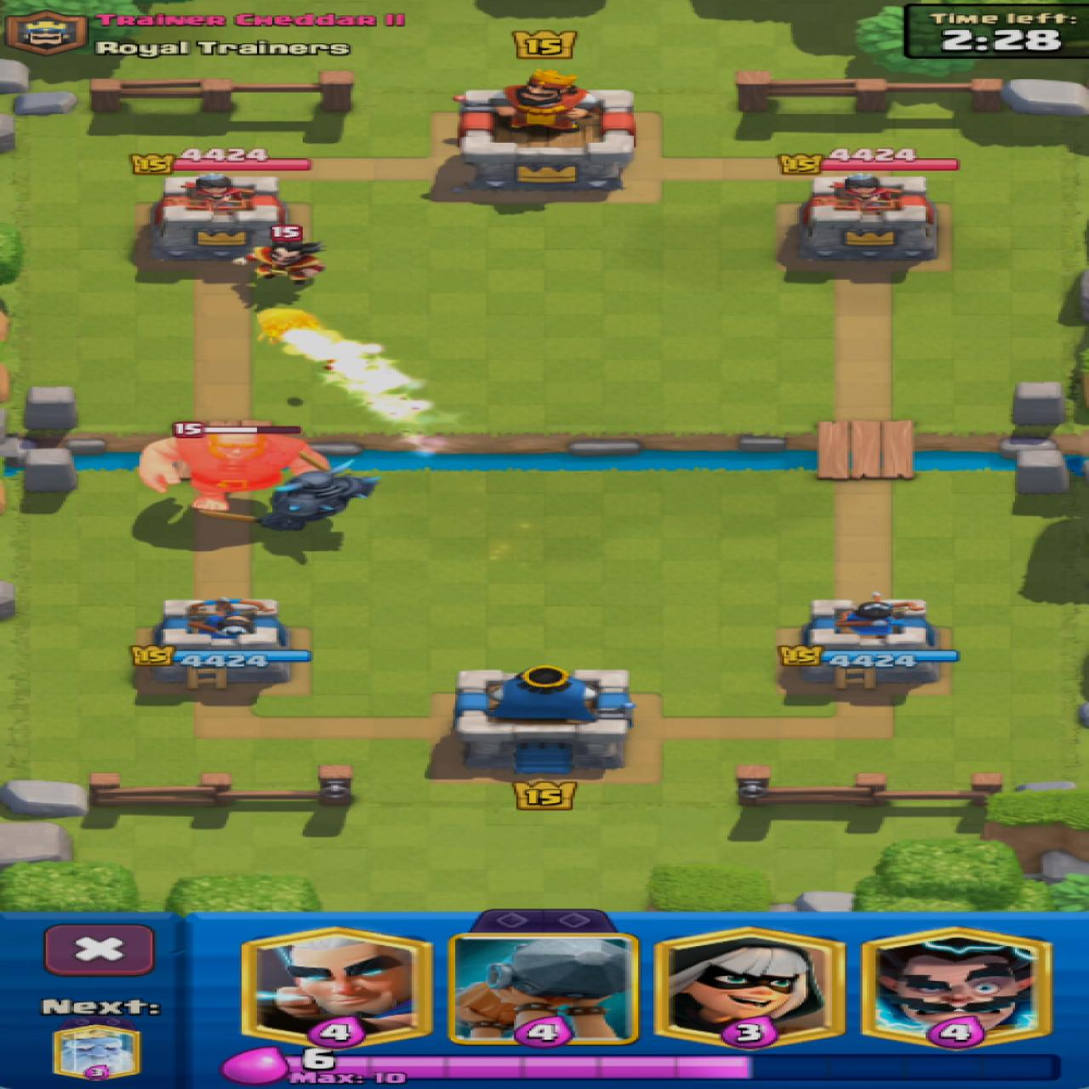Enemy-ElectroWizard: (235, 241, 322, 282)
Enemy-Giant: (139, 434, 327, 511)
Enemy-KingTower: (460, 70, 634, 193)
Enemy-PrincessTower: (150, 172, 292, 260), (799, 172, 934, 261)
